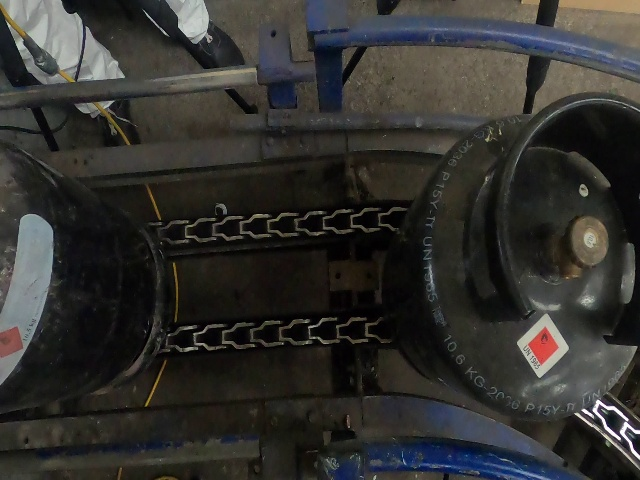gas_bottle: (0, 1, 640, 479)
